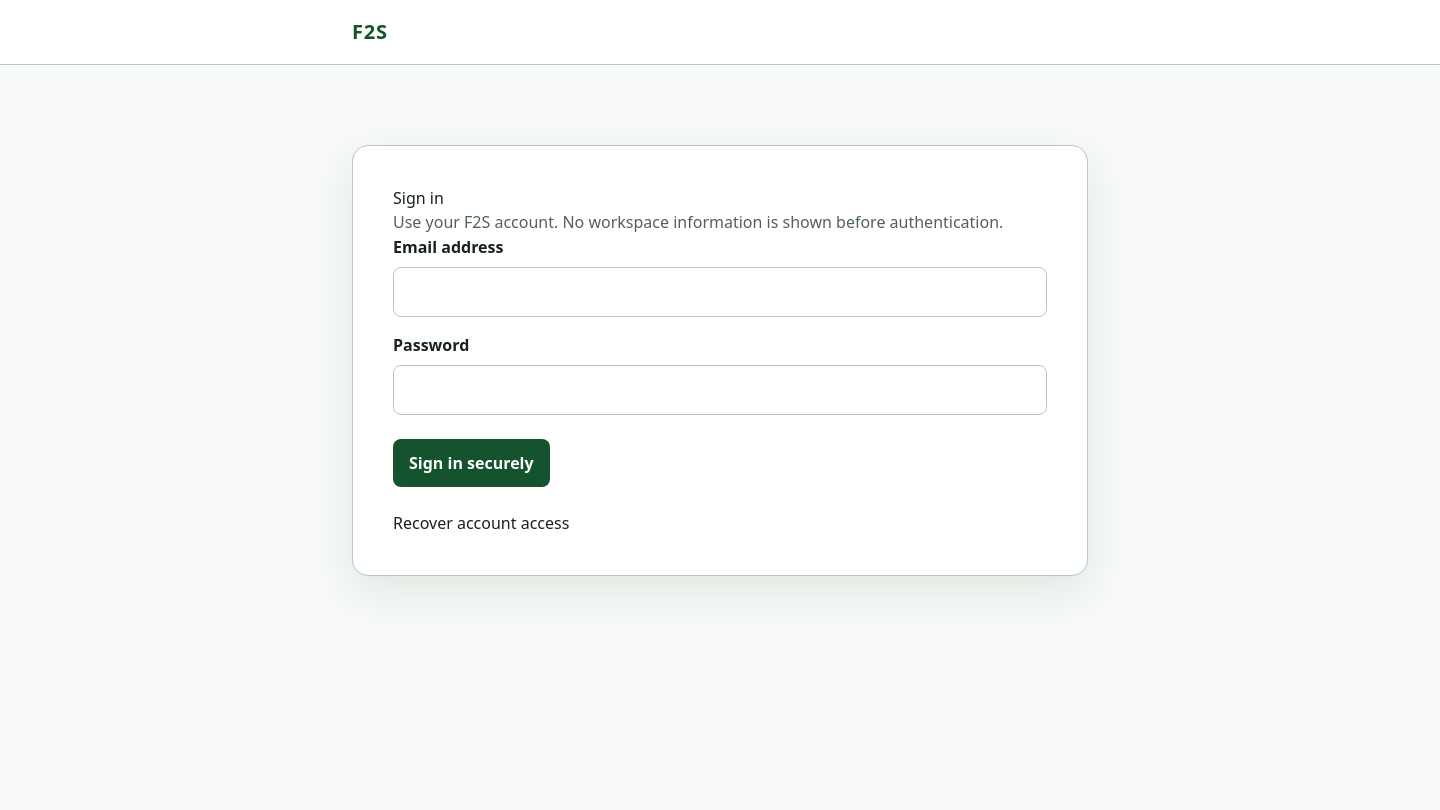
it: session lifecycle › clears all memory credentials even when logout transport fails
Type "admin@example.invalid" into the field labelled "Email address".
click(720, 292); type("admin@example.invalid")  # box [393, 267, 1047, 317]
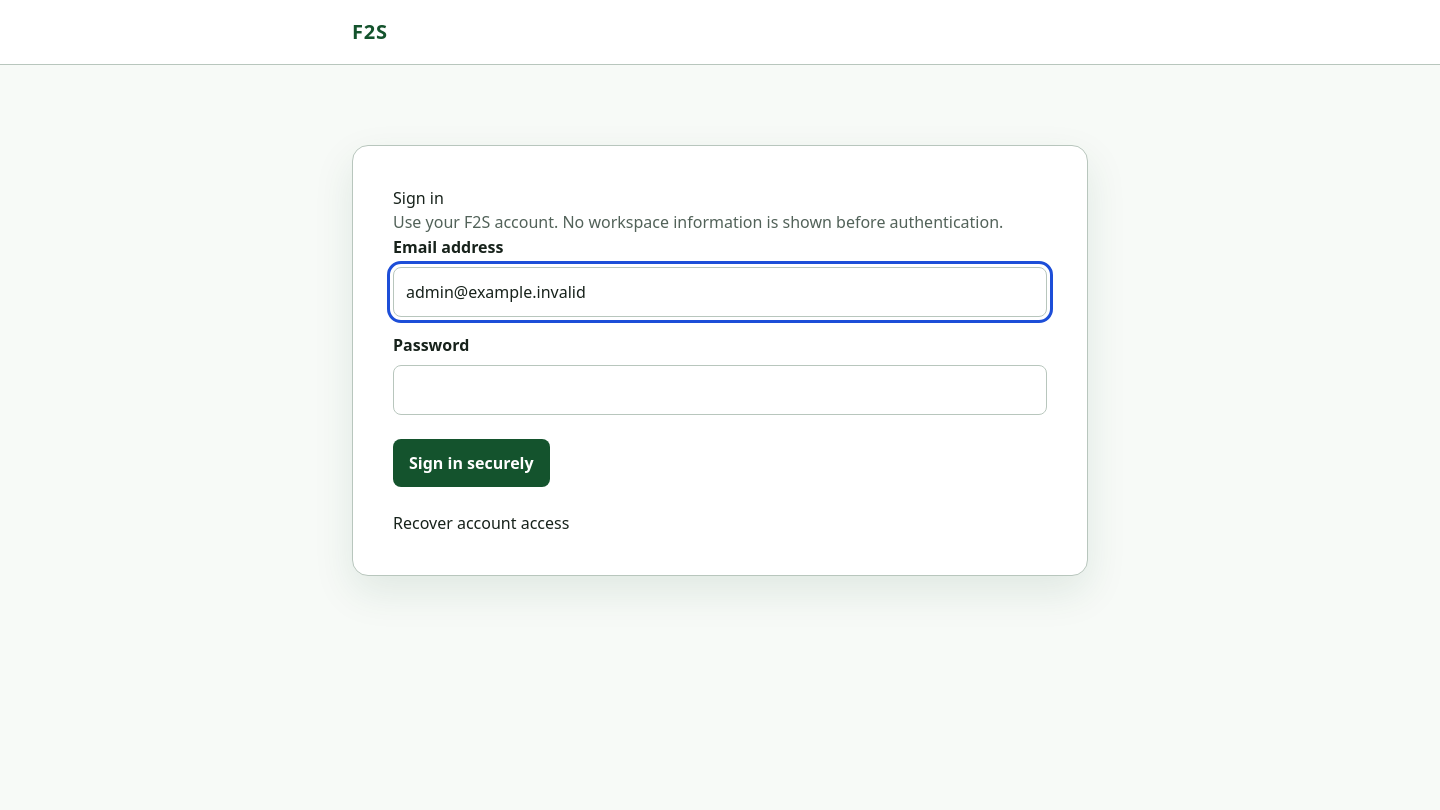
Type "synthetic-password-value" into the password field labelled "Password".
click(720, 390); type("synthetic-password-value")  # box [393, 365, 1047, 415]
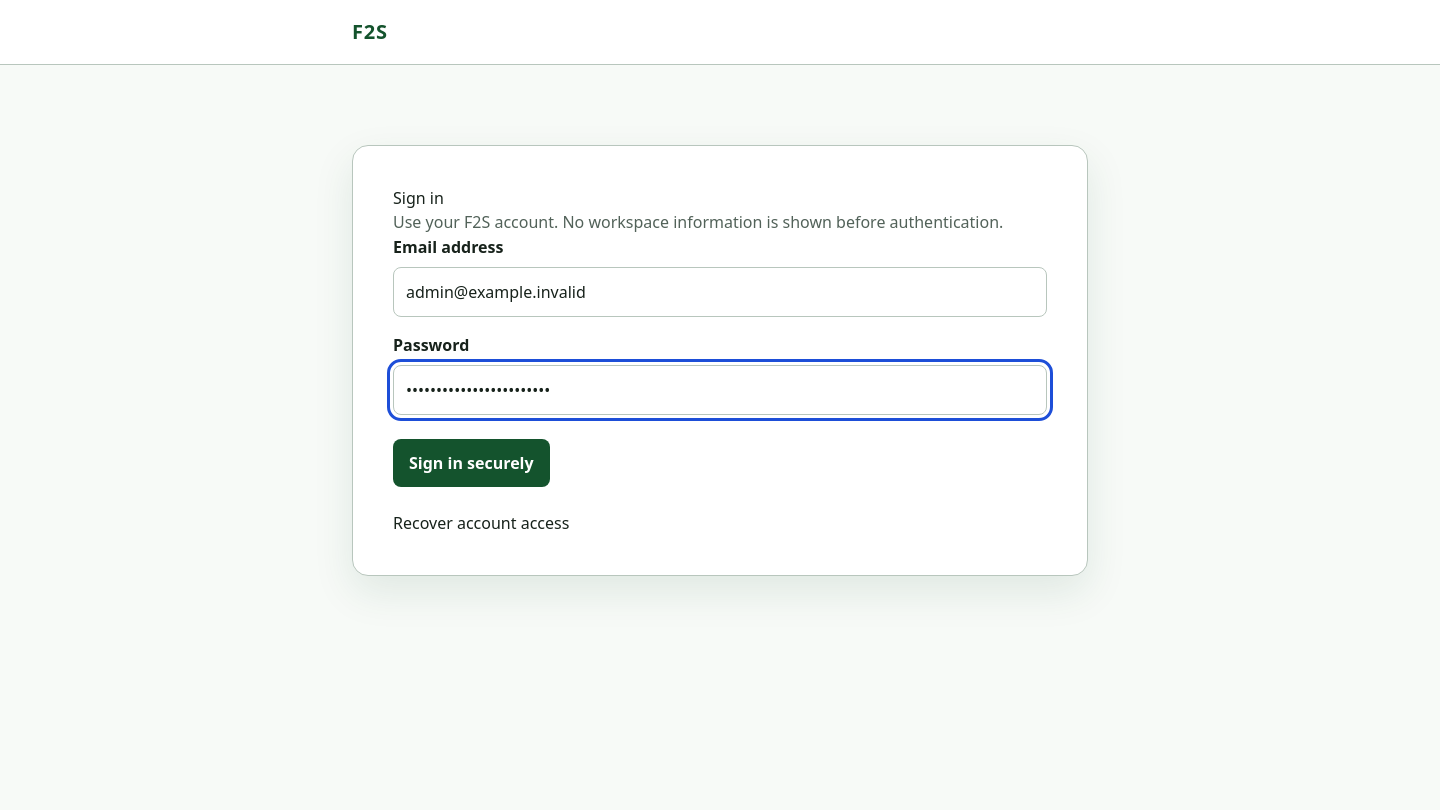
Click the button "Sign in securely".
click(471, 463)  # box [393, 439, 550, 487]
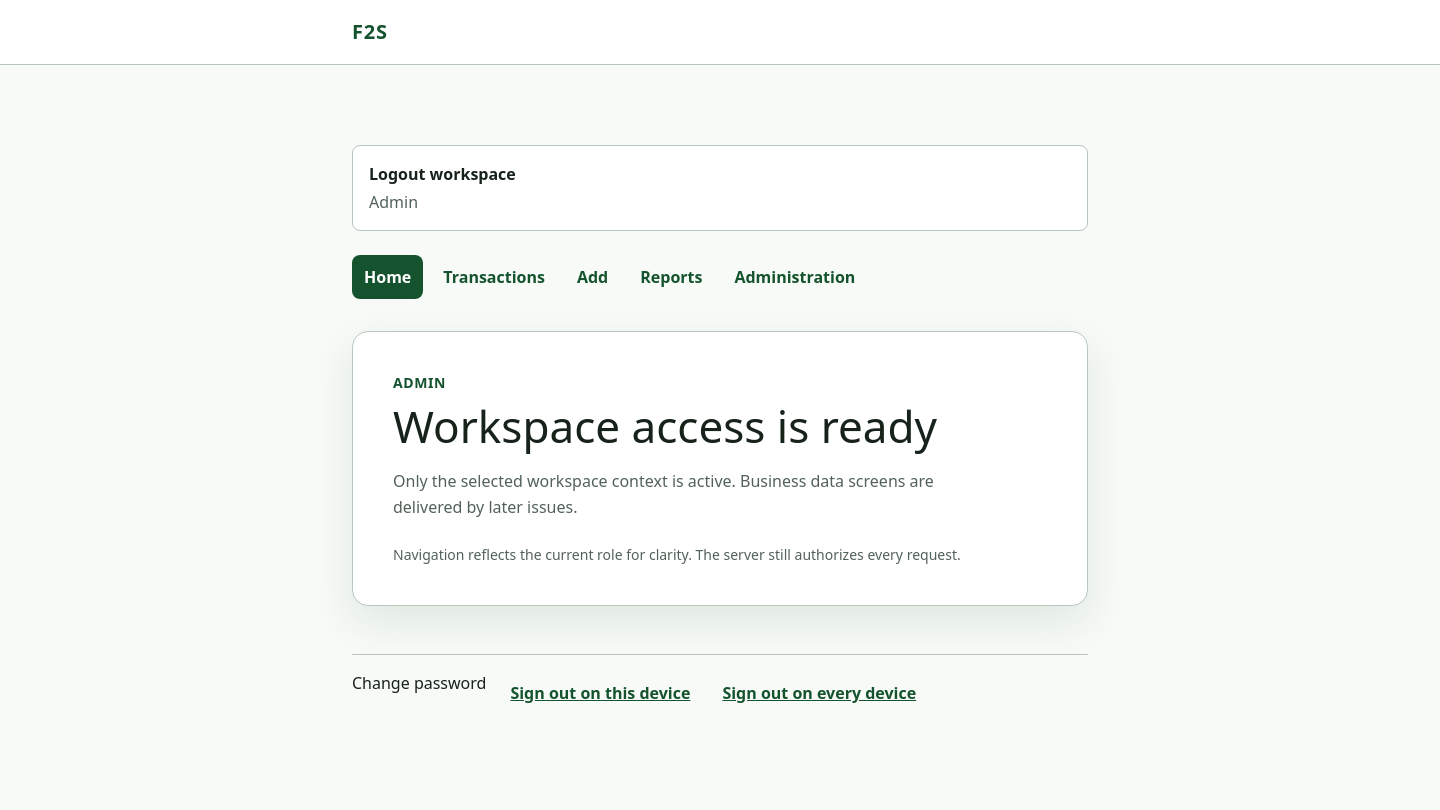
Click the button "Sign out on this device".
click(600, 693)  # box [502, 671, 698, 715]
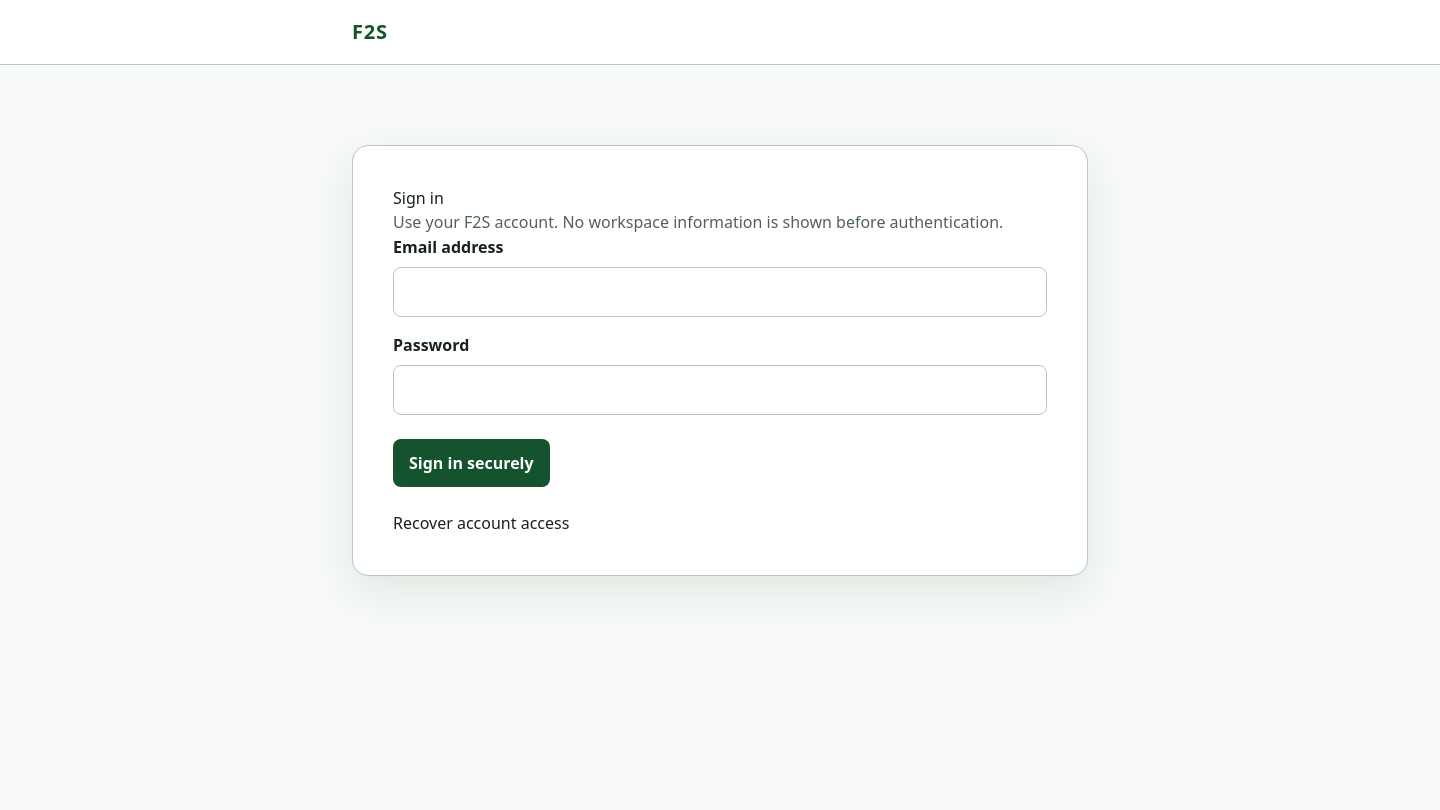
Result: the heading "Sign in" is shown at [393, 187, 444, 209]
